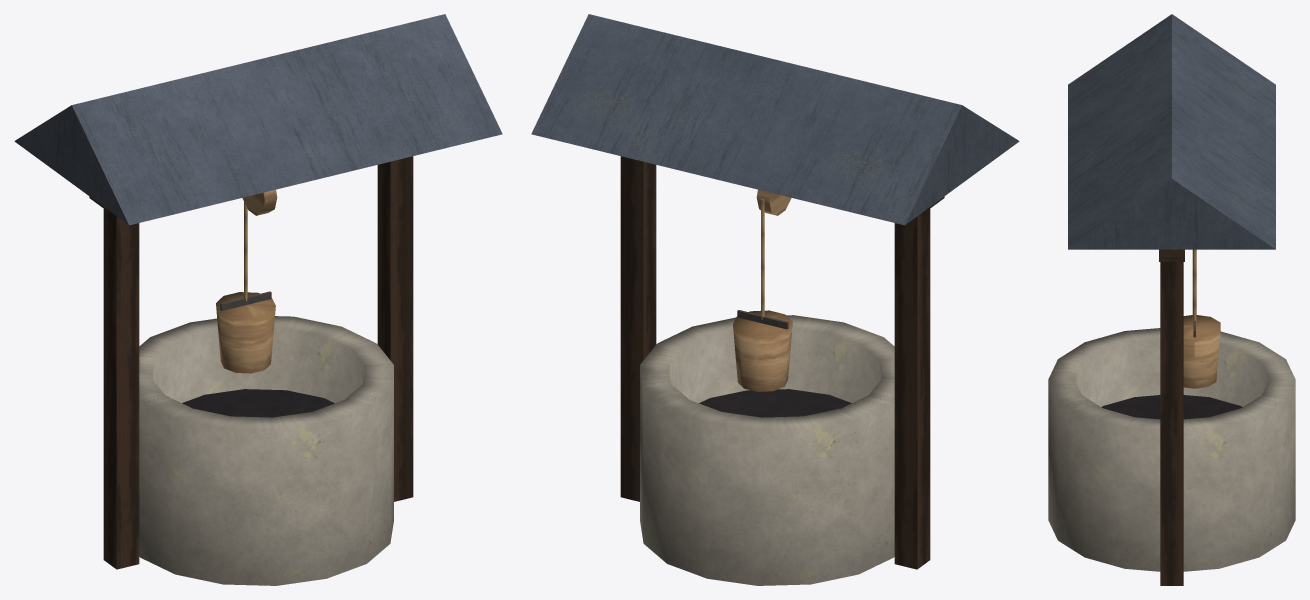
File: HO_Prop_Well.fbx
3 views of the same model, side by side, from view 1: azimuth 30°, elevation 25°; view 2: azimuth 150°, elevation 25°; view 3: azimuth 270°, elevation 25° (orthographic). The views are drawn at different scales.
Visible parts, largest first — view 1: HO_Prop_Well__Stone_Granite, HO_Prop_Well__RoofTile_Clay, HO_Prop_Well__Timber_Dark, HO_Prop_Well__Timber_Light, HO_Prop_Well__Black_Lacquer; view 2: HO_Prop_Well__Stone_Granite, HO_Prop_Well__RoofTile_Clay, HO_Prop_Well__Timber_Dark, HO_Prop_Well__Timber_Light, HO_Prop_Well__Black_Lacquer; view 3: HO_Prop_Well__Stone_Granite, HO_Prop_Well__RoofTile_Clay, HO_Prop_Well__Timber_Dark, HO_Prop_Well__Timber_Light, HO_Prop_Well__Black_Lacquer, HO_Prop_Well__Rope.
Boxes of the visible parts, x1,y1,x2,y2 form: HO_Prop_Well__Stone_Granite: [139, 316, 393, 585]; HO_Prop_Well__RoofTile_Clay: [14, 14, 502, 225]; HO_Prop_Well__Timber_Dark: [89, 156, 413, 569]; HO_Prop_Well__Timber_Light: [216, 189, 277, 373]; HO_Prop_Well__Black_Lacquer: [182, 389, 334, 417]; HO_Prop_Well__Stone_Granite: [640, 315, 894, 585]; HO_Prop_Well__RoofTile_Clay: [531, 14, 1019, 225]; HO_Prop_Well__Timber_Dark: [620, 156, 944, 569]; HO_Prop_Well__Timber_Light: [733, 189, 792, 391]; HO_Prop_Well__Black_Lacquer: [699, 389, 851, 417]; HO_Prop_Well__Stone_Granite: [1048, 328, 1295, 571]; HO_Prop_Well__RoofTile_Clay: [1068, 14, 1275, 249]; HO_Prop_Well__Timber_Dark: [1159, 249, 1184, 585]; HO_Prop_Well__Timber_Light: [1183, 315, 1220, 388]; HO_Prop_Well__Black_Lacquer: [1101, 395, 1242, 419]; HO_Prop_Well__Rope: [1192, 249, 1196, 322].
Size of the model in its own units: 6 by 7.2 by 3.8.
